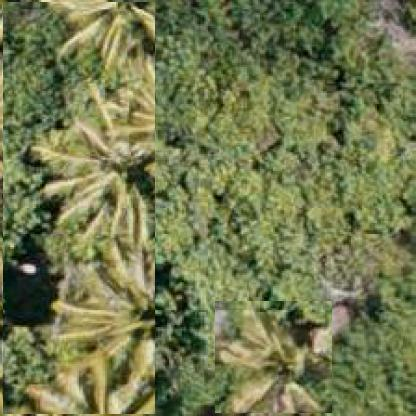coconut tree: (2, 2, 155, 415), (214, 301, 332, 414)
